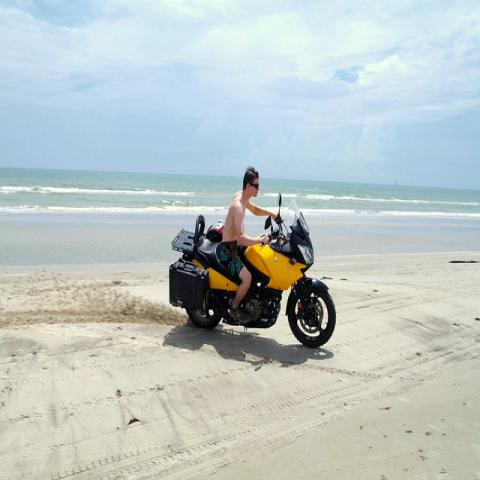motorcycle: (167, 192, 338, 347)
